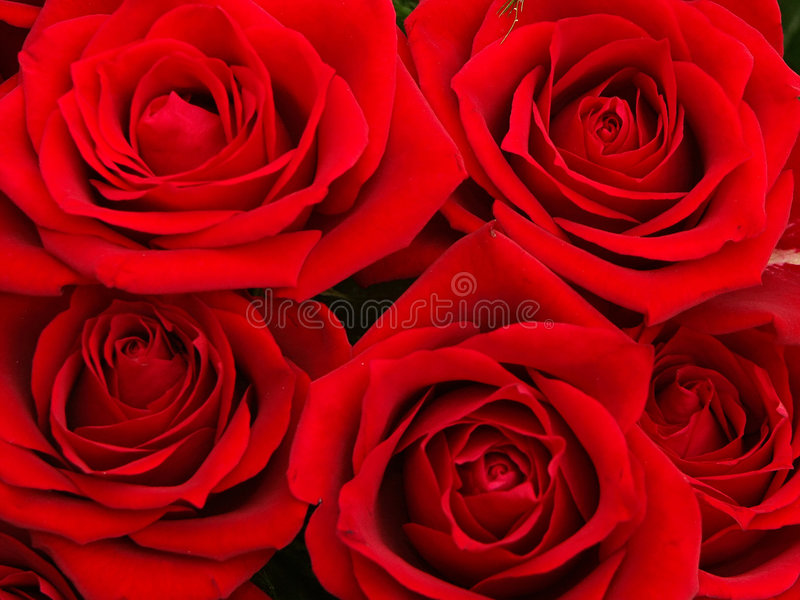RedRose: (292, 275, 713, 597), (3, 4, 443, 301), (407, 0, 792, 283), (0, 294, 337, 595)
